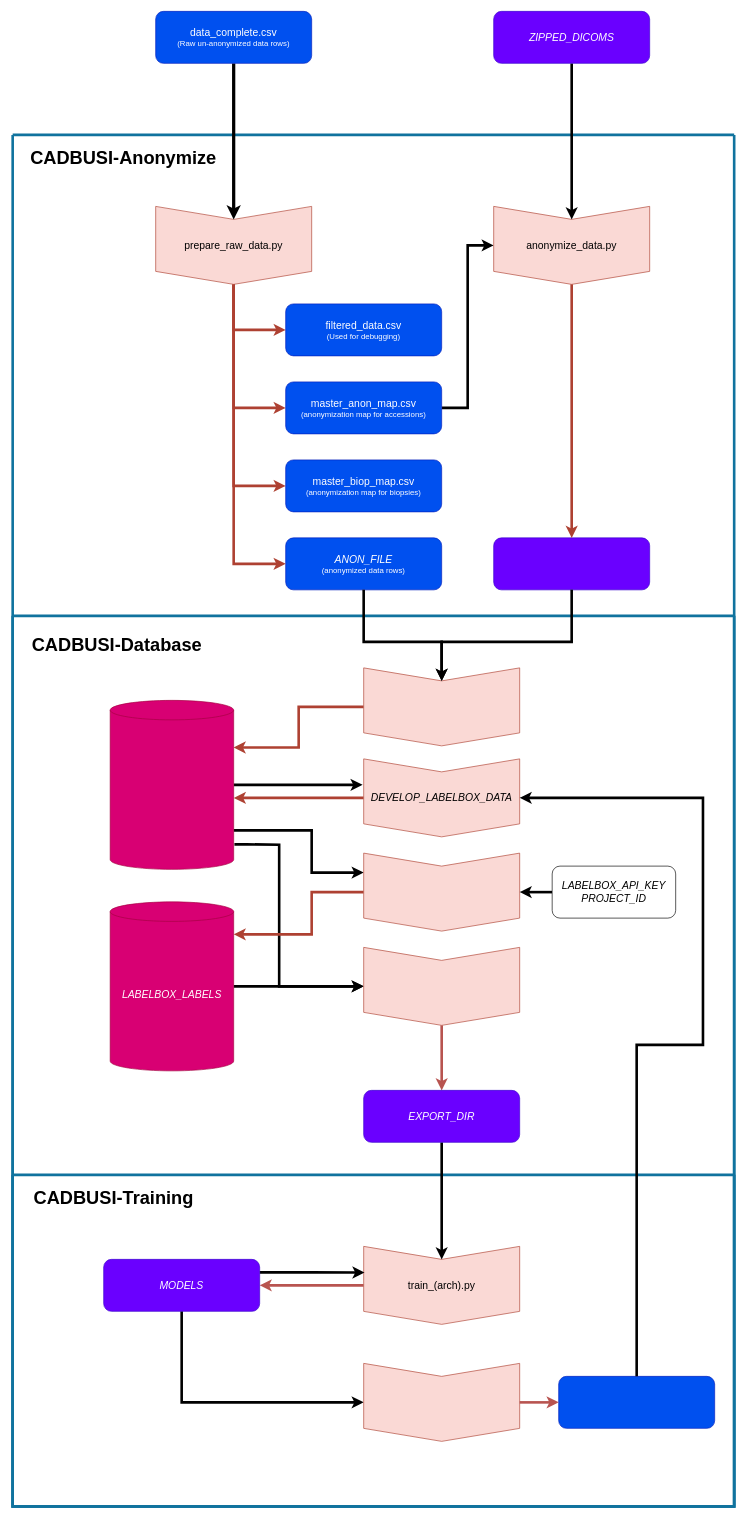
Some shapes in this 746 by 1519 pixel diagram are drawn without their labels. Here are the shapes that lost their labels. From the top down, the box of each, then its label:
(493, 537, 650, 590): UNZIPPED_DICOMS (anonymized)
(363, 667, 520, 746): DEVELOP_DATABASE
(110, 700, 234, 869): DATABASE_DIR
(363, 852, 520, 931): RETREIVE_LABELBOX_DATA
(363, 947, 520, 1025): DEVELOP_EXPORT
(363, 1363, 520, 1441): test_model_results.py
(558, 1376, 715, 1428): TARGET_CASES failed_cases.csv (Worst performing cases)
